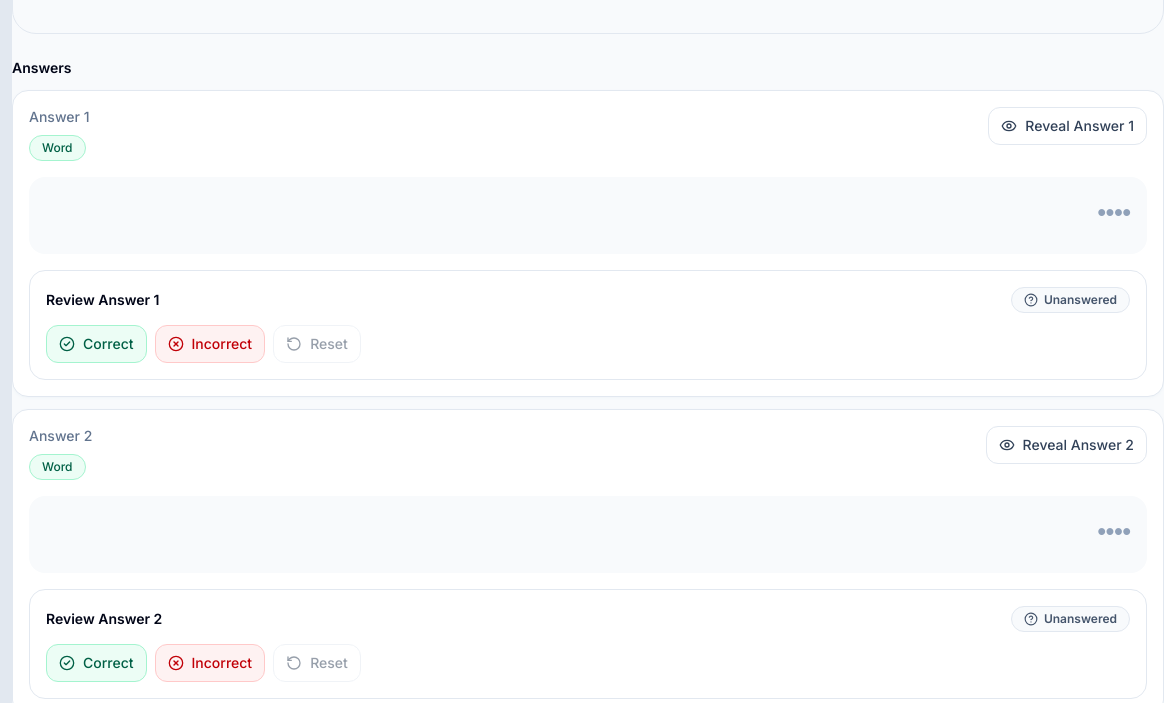
Test case: GeneratedQuizPreview review mode › marks one answer correct
(page scrolled)
Click the button with aria-label "mark answer 1 correct": (96, 344) [46,325,146,363]
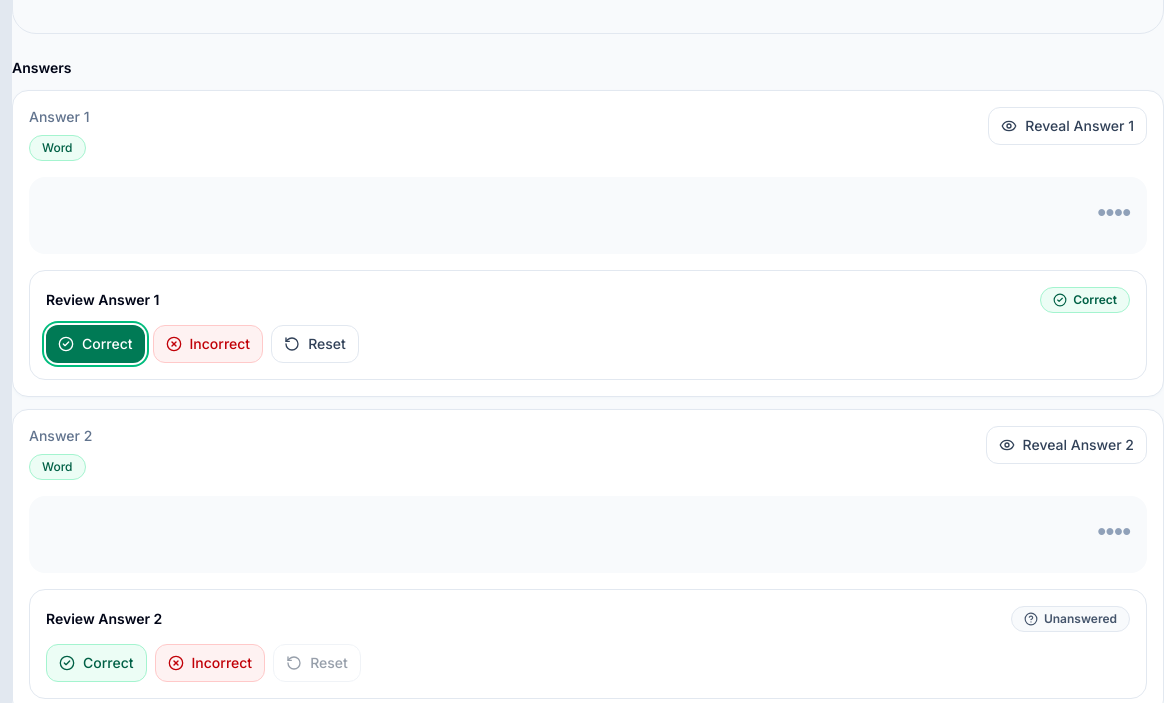
Result: the element with test id "review-answer-status-badge" reads "Correct" at [1073,292,1117,307]
